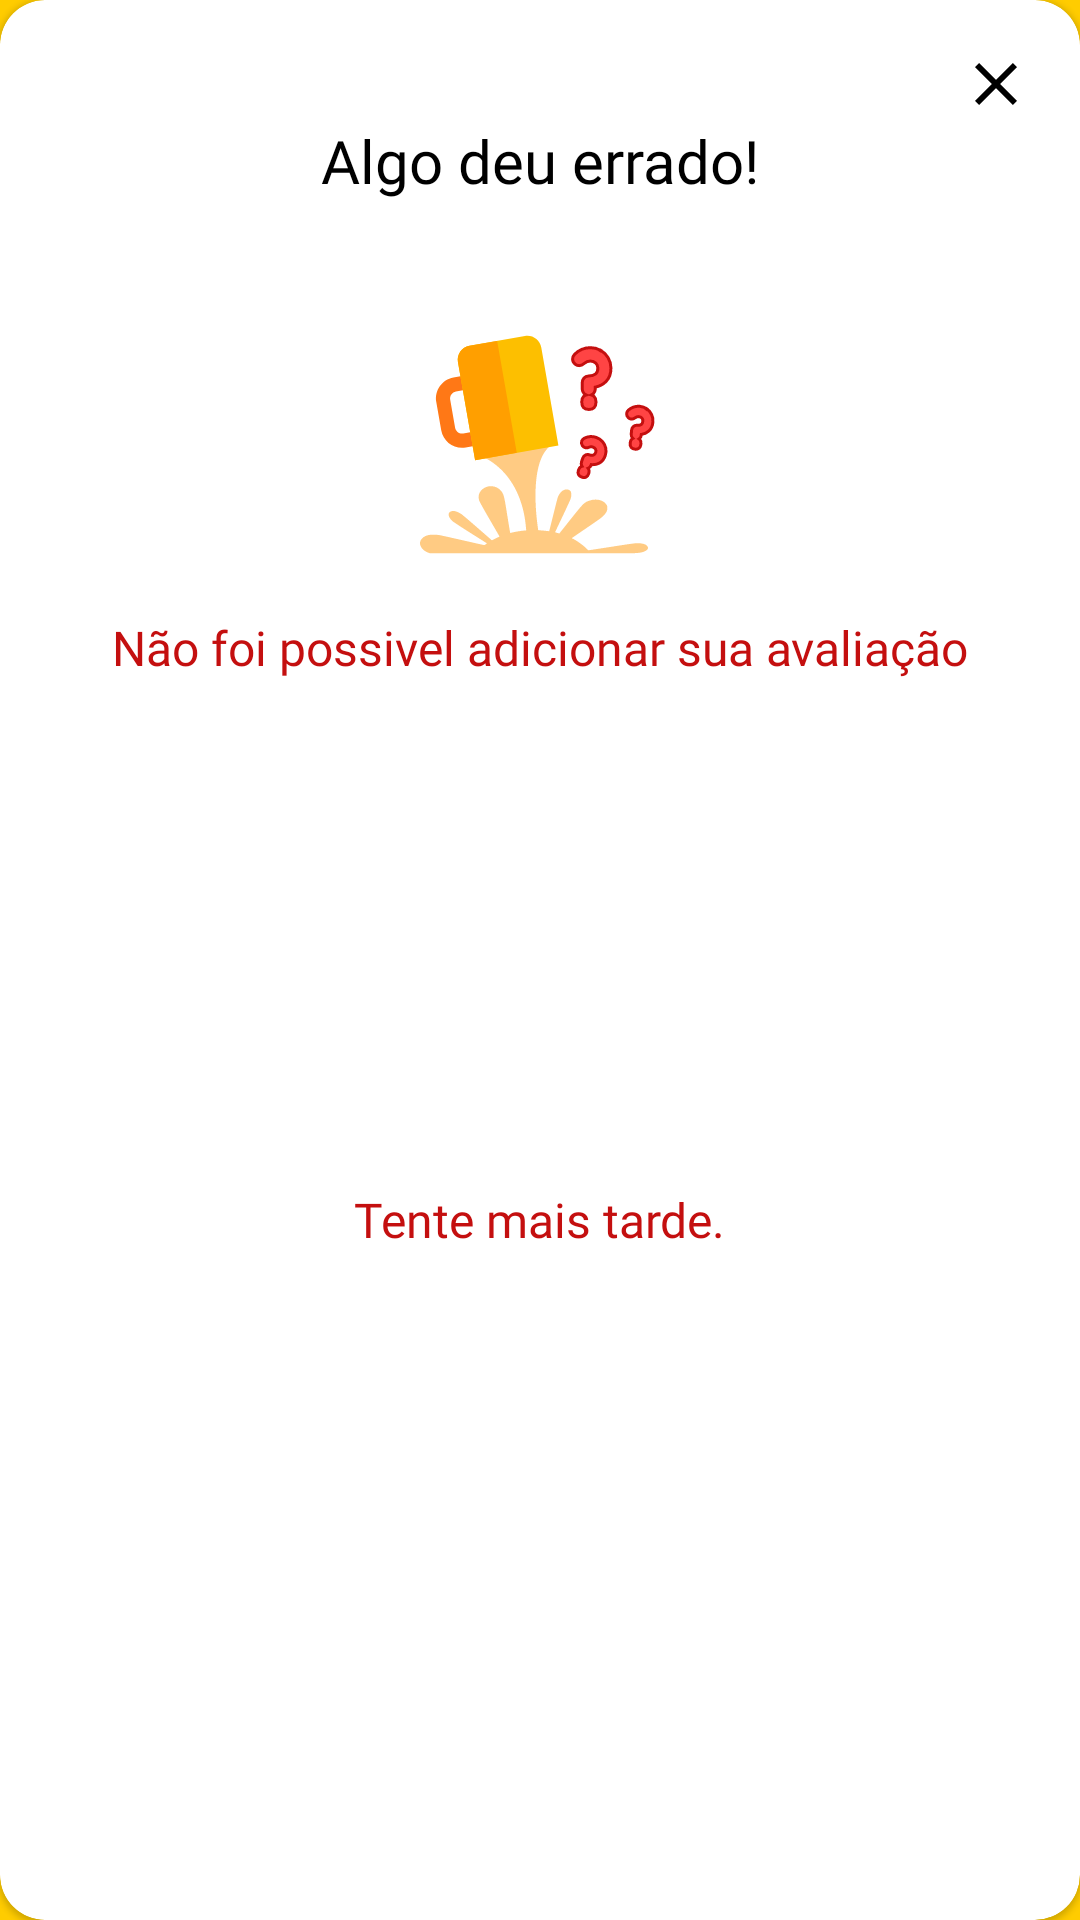

Icons on this 1080w x 1920h Android screen, each with its box as {"left": x1, "top": y1, "right": x2, "bottom": y2}:
brind fail: {"left": 420, "top": 335, "right": 655, "bottom": 554}
exit: {"left": 975, "top": 63, "right": 1017, "bottom": 105}
